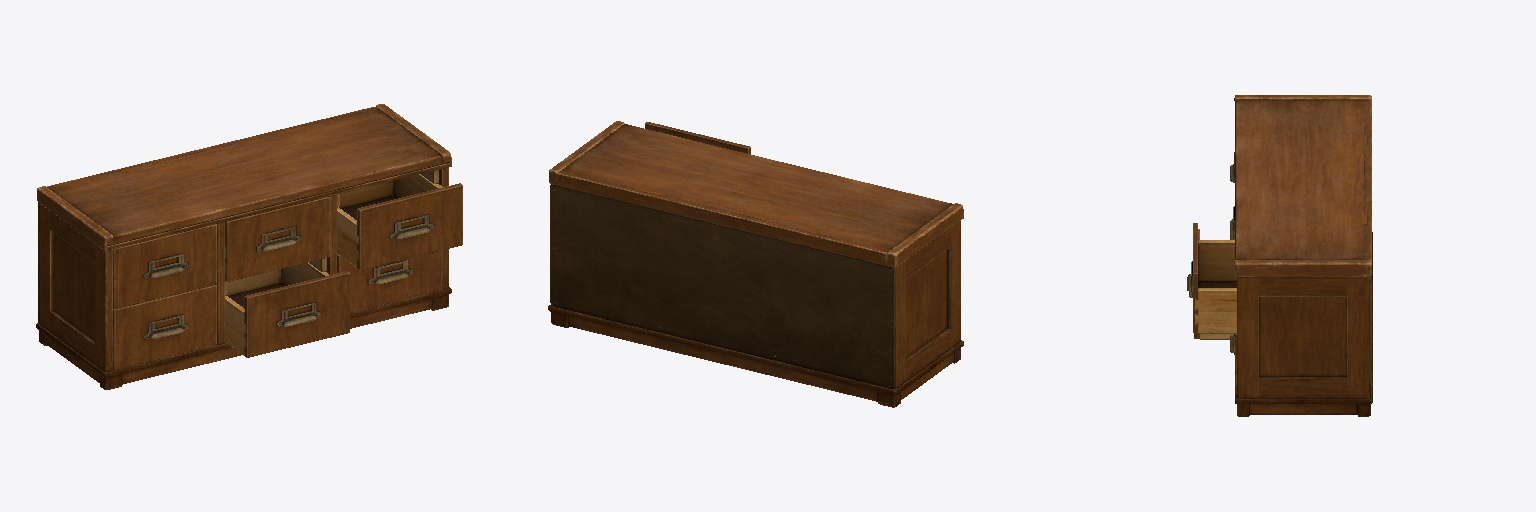
The picture shows the model from 3 angles: view 1: azimuth 30°, elevation 25°; view 2: azimuth 150°, elevation 25°; view 3: azimuth 270°, elevation 25°; orthographic projection.
Parts seen in each view (by area): view 1: vintage_wooden_drawer_01_body_Cube.120, vintage_wooden_drawer_01_drawer03_Cube.131, vintage_wooden_drawer_01_drawer05_Cube.125, vintage_wooden_drawer_01_drawer02_Cube.129, vintage_wooden_drawer_01_drawer04_Cube.135, vintage_wooden_drawer_01_drawer01_Cube.128, vintage_wooden_drawer_01_drawer06_Cube.133; view 2: vintage_wooden_drawer_01_body_Cube.120, vintage_wooden_drawer_01_drawer03_Cube.131; view 3: vintage_wooden_drawer_01_body_Cube.120, vintage_wooden_drawer_01_drawer03_Cube.131.
Boxes of the visible parts, x1,y1,x2,y2 form: vintage_wooden_drawer_01_body_Cube.120: [36, 104, 451, 389]; vintage_wooden_drawer_01_drawer03_Cube.131: [337, 174, 462, 269]; vintage_wooden_drawer_01_drawer05_Cube.125: [225, 262, 349, 357]; vintage_wooden_drawer_01_drawer02_Cube.129: [225, 197, 329, 281]; vintage_wooden_drawer_01_drawer04_Cube.135: [113, 285, 216, 369]; vintage_wooden_drawer_01_drawer01_Cube.128: [113, 224, 216, 308]; vintage_wooden_drawer_01_drawer06_Cube.133: [337, 251, 441, 312]; vintage_wooden_drawer_01_body_Cube.120: [548, 121, 963, 407]; vintage_wooden_drawer_01_drawer03_Cube.131: [645, 122, 750, 153]; vintage_wooden_drawer_01_body_Cube.120: [1234, 95, 1372, 416]; vintage_wooden_drawer_01_drawer03_Cube.131: [1187, 223, 1236, 333].
Size of the model in its own units: 1.5 by 0.6376 by 0.6924.
Materials: 1 (1 with a texture image).